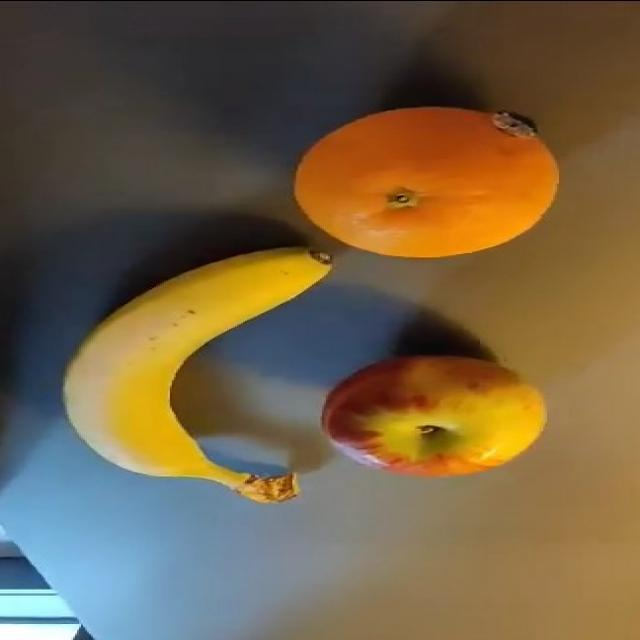Apple: (320, 353, 547, 477)
Banana: (61, 244, 333, 504)
Orange: (292, 104, 559, 259)
